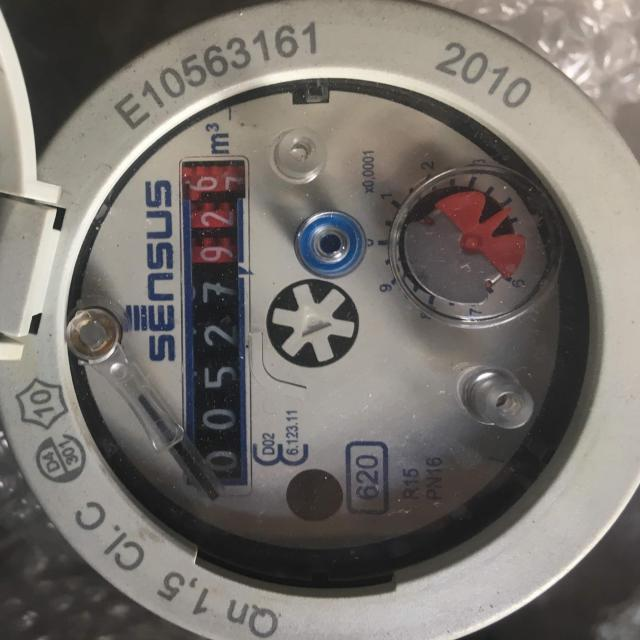gaz_meter: (75, 87, 574, 550)
indication: (180, 158, 252, 485)
